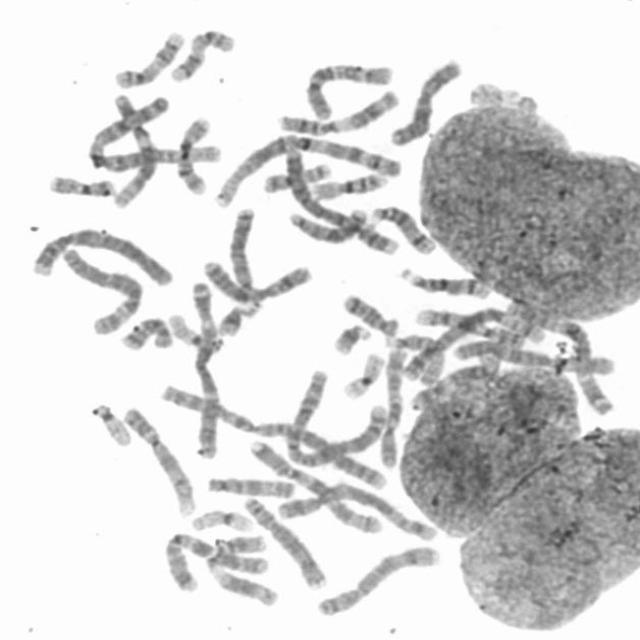A1: (206, 129, 402, 210), (83, 104, 223, 174)
A2: (151, 377, 393, 490), (282, 361, 388, 487)
A3: (500, 295, 618, 418), (186, 274, 223, 460)
B4: (278, 137, 405, 257), (26, 222, 176, 288)
B5: (398, 310, 554, 382), (273, 479, 444, 544)
C10: (299, 56, 396, 120), (375, 342, 411, 470)
C11: (270, 85, 401, 137), (205, 532, 280, 609)
C12: (95, 89, 166, 211), (406, 356, 502, 412)
C6: (56, 242, 147, 336), (448, 336, 618, 376)
C7: (245, 434, 385, 536), (161, 530, 270, 593)
C8: (313, 540, 443, 619), (239, 492, 328, 590)
C9: (117, 401, 198, 519), (411, 304, 536, 348)
D13: (225, 203, 261, 311), (282, 202, 370, 245)
D14: (367, 200, 437, 256), (396, 262, 494, 301)
D15: (380, 328, 448, 388), (200, 469, 298, 500)
E16: (173, 111, 215, 197), (307, 166, 391, 202)
E17: (110, 25, 189, 90), (165, 24, 238, 85)
E18: (338, 287, 400, 338), (117, 312, 175, 352)
F19: (338, 347, 388, 401), (185, 504, 255, 534)
F20: (259, 157, 336, 195), (46, 170, 117, 199)
G21: (212, 296, 264, 338), (328, 319, 374, 356)
G22: (163, 308, 226, 352), (88, 398, 134, 448)
X: (384, 55, 464, 148), (196, 254, 315, 305)
